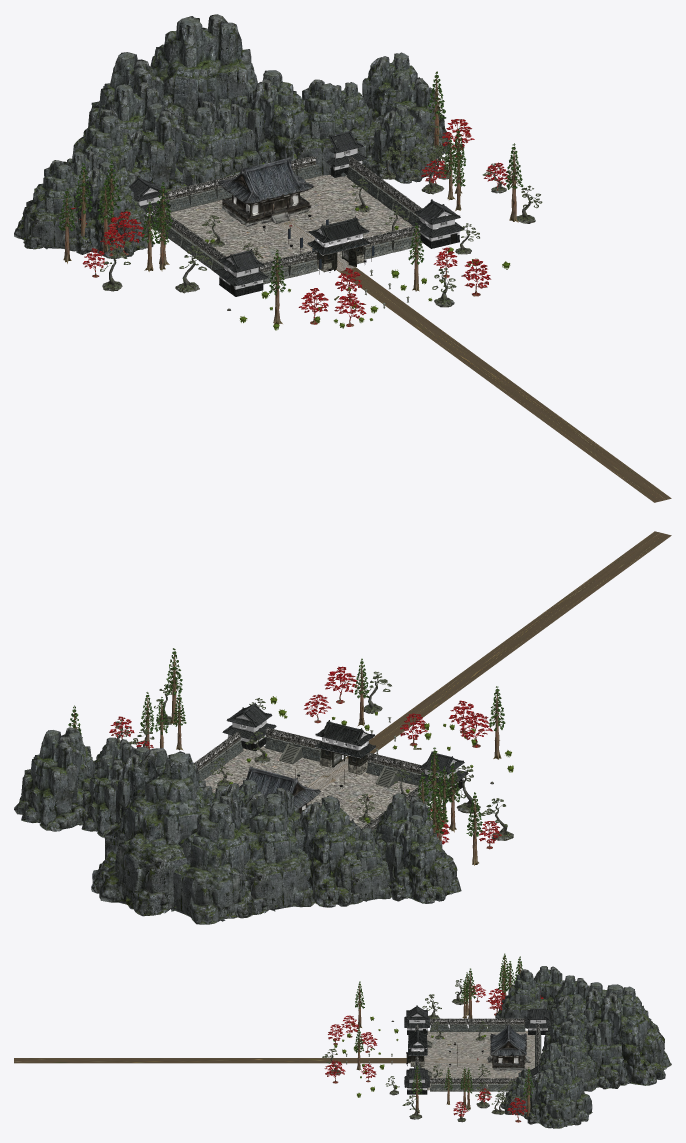
The model's file is monastery.glb.
3 views of the same model, one above another, from view 1: azimuth 30°, elevation 25°; view 2: azimuth 150°, elevation 25°; view 3: azimuth 270°, elevation 25° (orthographic). The views are drawn at different scales.
Parts seen in each view (by area): view 1: m57, m73, m59, m45, m75, m67, m76, m77, m64, m68, m63, m61 (+11 smaller); view 2: m73, m72, m71, m70, m61, m59, m57, m76, m69, m60, m40, m75 (+7 smaller); view 3: m73, m57, m59, m70, m45, m75, m74, m67, m78, m76, m77, m61 (+10 smaller).
Part boxes in pixels (x1,y1,x2,y2): m57: (169, 175, 422, 268); m73: (150, 14, 251, 124); m59: (336, 261, 671, 502); m45: (217, 157, 313, 226); m75: (73, 161, 153, 258); m67: (244, 70, 305, 174); m76: (14, 160, 80, 251); m77: (366, 105, 436, 183); m64: (176, 101, 233, 186); m68: (293, 79, 355, 176); m63: (138, 103, 187, 191); m61: (63, 109, 141, 185); m73: (91, 748, 212, 916); m72: (171, 795, 252, 924); m71: (241, 793, 314, 915); m70: (14, 730, 93, 831); m61: (294, 796, 362, 907); m59: (338, 531, 671, 763); m57: (202, 746, 418, 828); m76: (382, 814, 461, 903); m69: (81, 754, 123, 837); m60: (350, 826, 391, 904); m40: (314, 720, 375, 774); m75: (372, 793, 432, 858); m73: (585, 984, 671, 1088); m57: (422, 1030, 535, 1090); m59: (14, 1058, 410, 1063); m70: (537, 1062, 592, 1128); m45: (487, 1024, 530, 1070); m75: (495, 969, 544, 1028); m74: (584, 1026, 629, 1089); m67: (553, 1022, 595, 1091); m78: (521, 1069, 554, 1128); m76: (533, 966, 564, 1009); m77: (500, 1068, 533, 1115); m61: (547, 975, 589, 1031).
Size of what is drawn, in the model's own units: 124 by 35 by 261.
40 materials, 20 textured.
